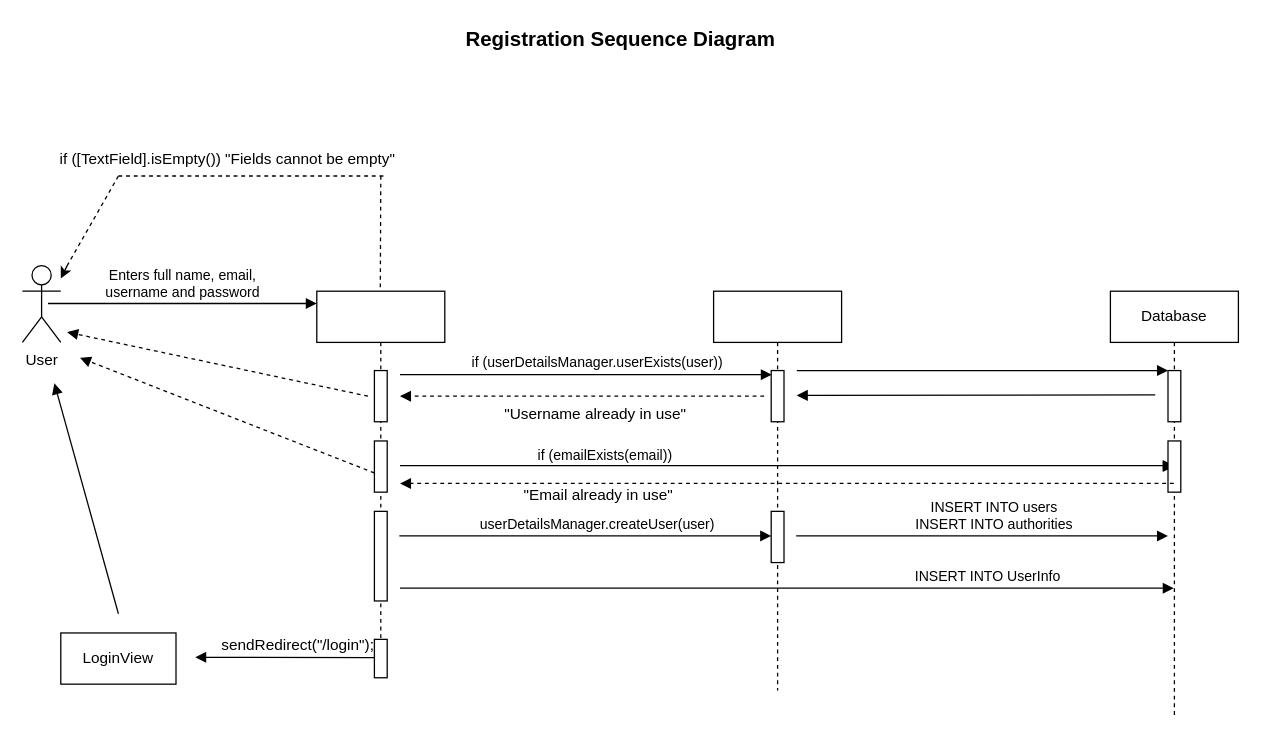
Image size: 1261x739. Some labels were removed from this diagram. The shapes that lost their labels are listed below. From the top down, each one's centre as x and y in pixels, then its label:
At point 380,484: "RegisterView".
At point 777,490: "Spring Security".
